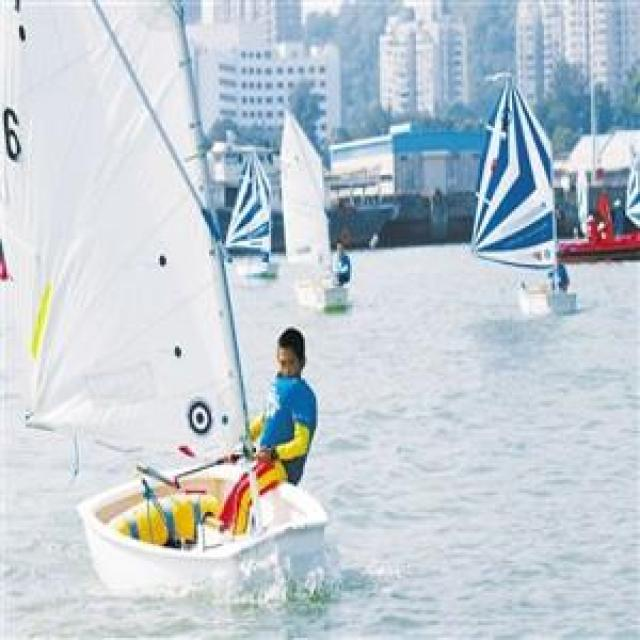sailboat: (0, 0, 330, 612), (434, 68, 584, 319), (253, 116, 364, 322)
